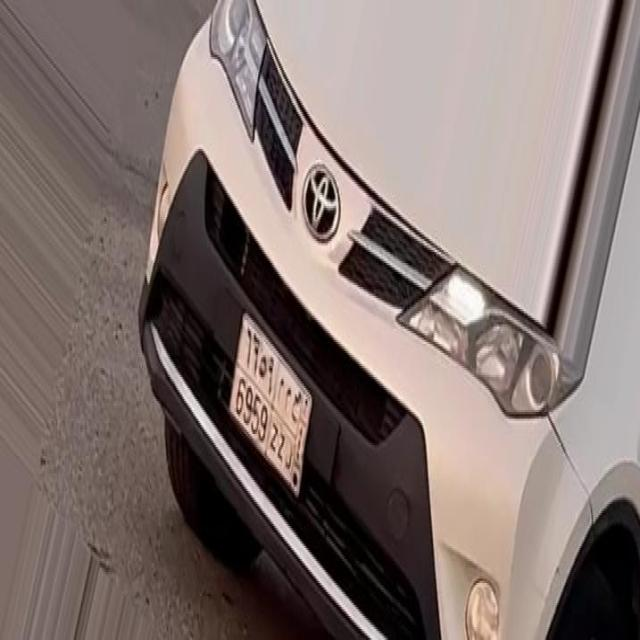Car-plate: (221, 290, 320, 518)
